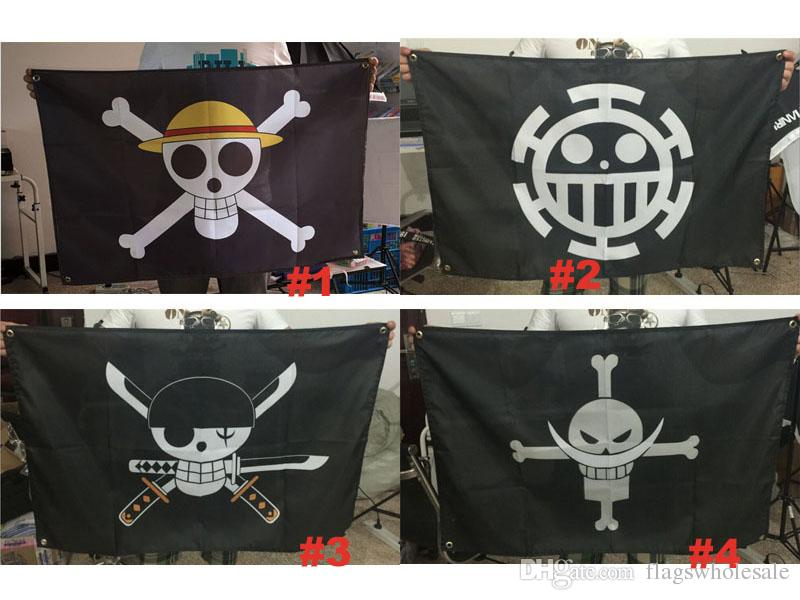Jolly Roger Flag: (412, 323, 794, 556), (6, 324, 391, 550), (26, 63, 374, 282)
